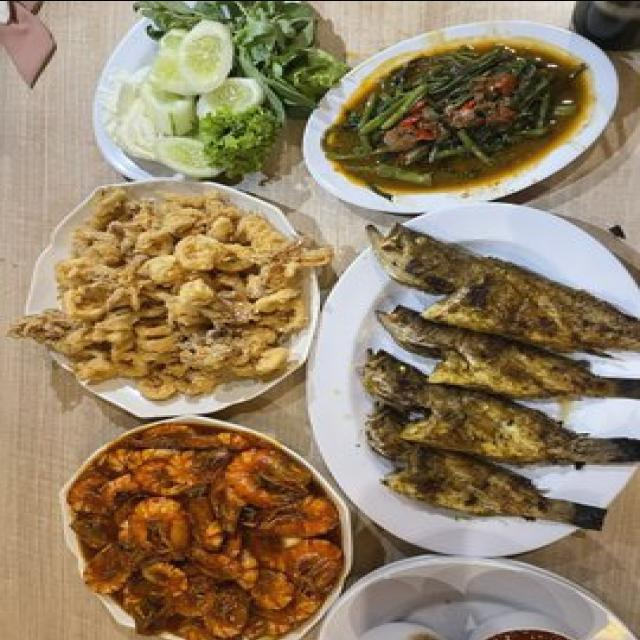ikan goreng: (367, 222, 640, 356), (363, 350, 640, 468), (365, 411, 604, 528), (377, 306, 640, 400)
